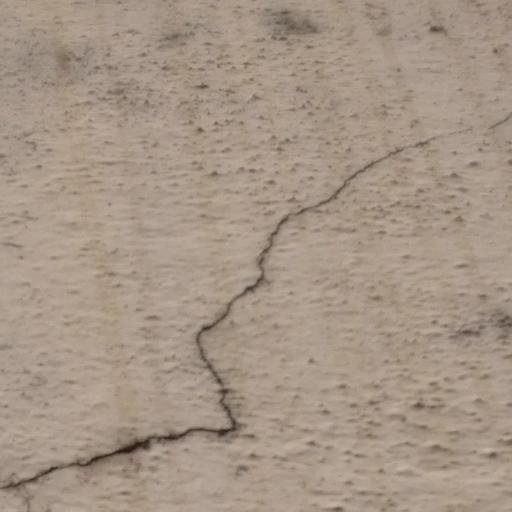minor_crack: (0, 90, 512, 512)
